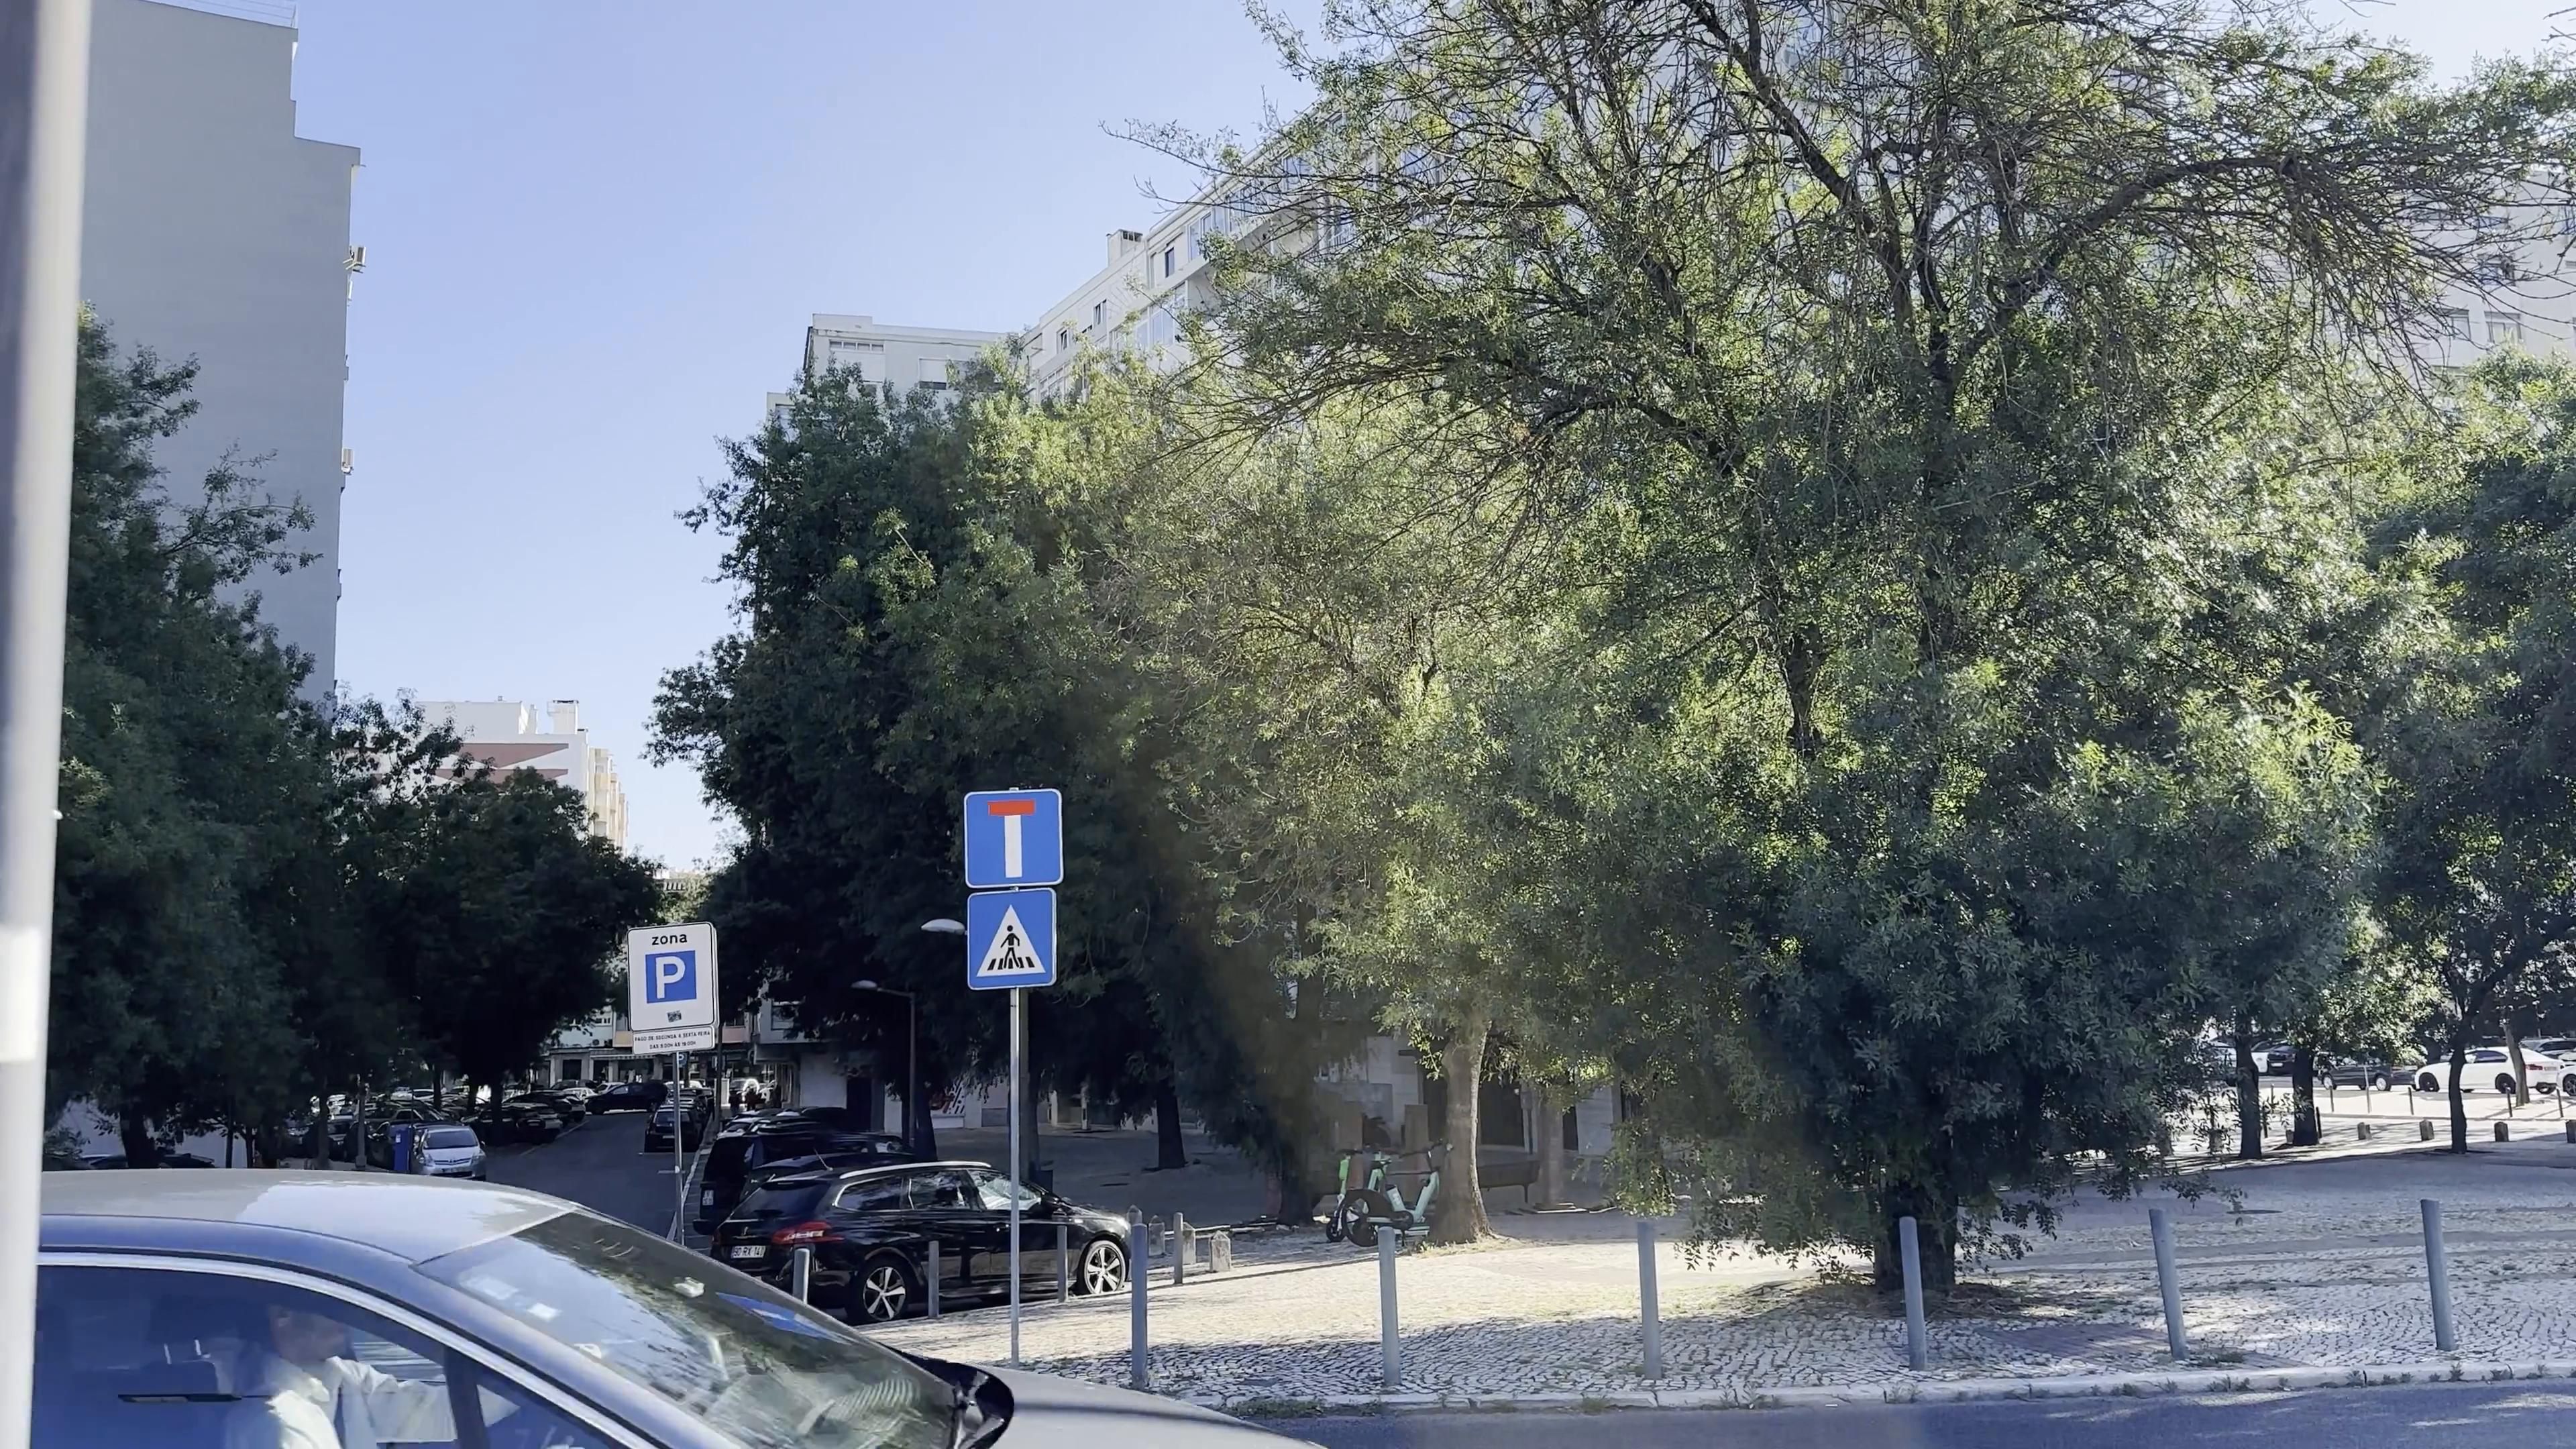via publica sem saida: (954, 782, 1072, 893)
zona de estacionamento autorizado: (621, 922, 722, 1024)
